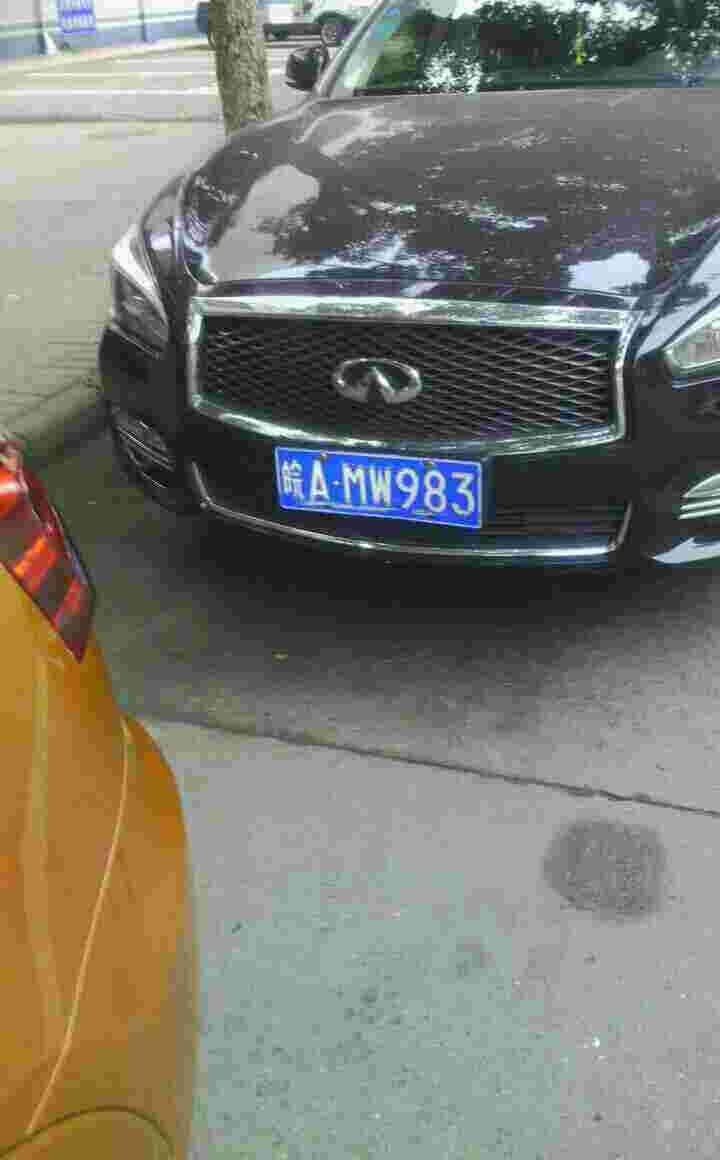car: (272, 447, 489, 529)
